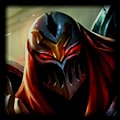Zed: (5, 5, 116, 117)
